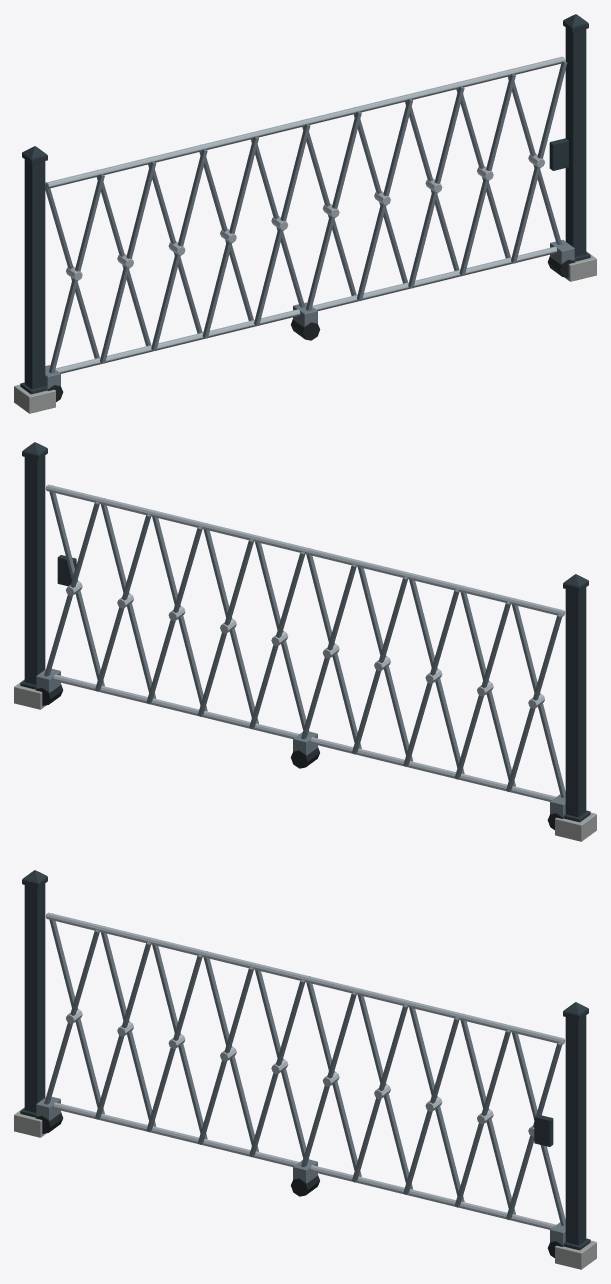
File: b19_accordion_industrial_gate.glb
3 renders of one model, top to bottom at view 1: azimuth 30°, elevation 25°; view 2: azimuth 150°, elevation 25°; view 3: azimuth 330°, elevation 25°, orthographic.
Visible parts, largest first — view 1: b19_accordion_industrial_gate; view 2: b19_accordion_industrial_gate; view 3: b19_accordion_industrial_gate.
Part boxes in pixels (x1,y1,x2,y2): b19_accordion_industrial_gate: (14,14,596,413); b19_accordion_industrial_gate: (14,442,596,841); b19_accordion_industrial_gate: (14,870,596,1269).
Bounding box in the file's own units: 4.2 × 1.83 × 0.2225.
